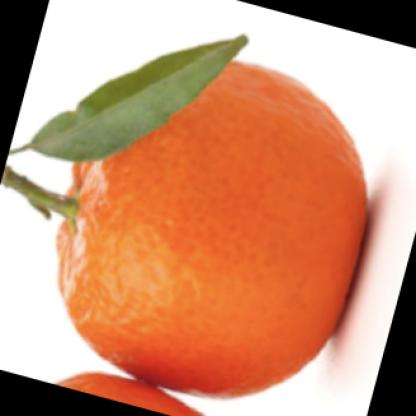fresh: (50, 56, 371, 395)
